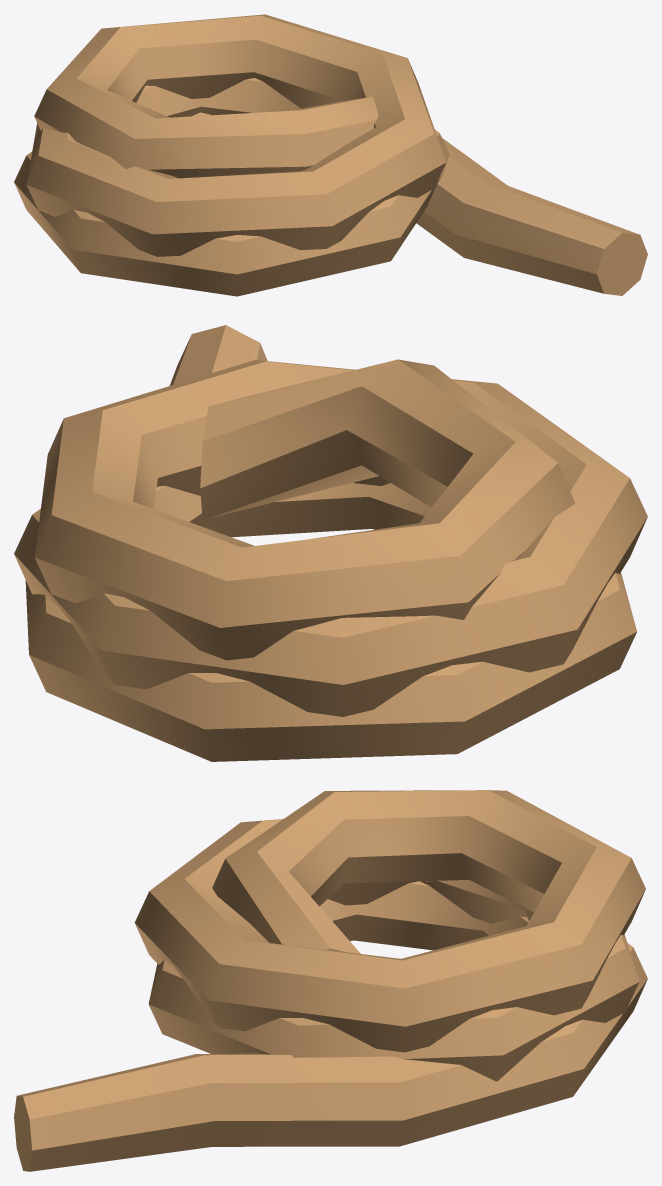
The model's file is Rope.fbx.
3 views of the same model, one above another, from view 1: azimuth 30°, elevation 25°; view 2: azimuth 150°, elevation 25°; view 3: azimuth 270°, elevation 25° (orthographic). The views are drawn at different scales.
Parts seen in each view (by area): view 1: Rope; view 2: Rope; view 3: Rope.
Boxes of the visible parts, bbox=[...] form: Rope: bbox=[14, 14, 647, 296]; Rope: bbox=[14, 325, 647, 761]; Rope: bbox=[14, 790, 647, 1171].
Size of the model in its own units: 4.86 by 1.79 by 5.08.
1 material, 1 textured.
